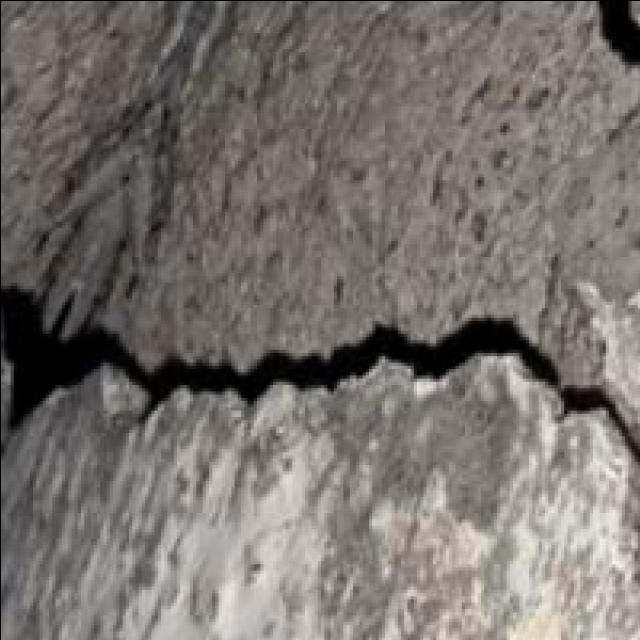SurfaceCrack: (0, 260, 634, 500)
